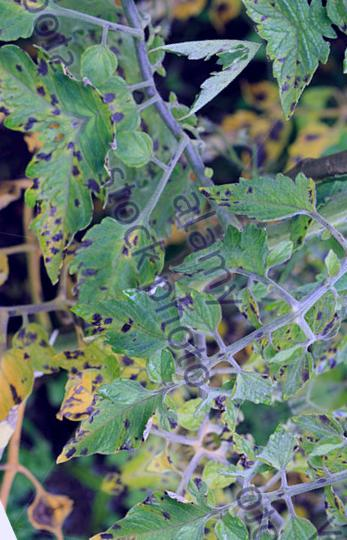Tomato Early blight leaf: (0, 126, 128, 289), (33, 371, 176, 484), (197, 144, 331, 257), (74, 266, 194, 381), (250, 20, 347, 128)
